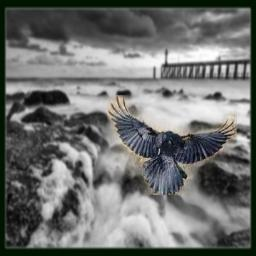Crow: (107, 95, 237, 195)
